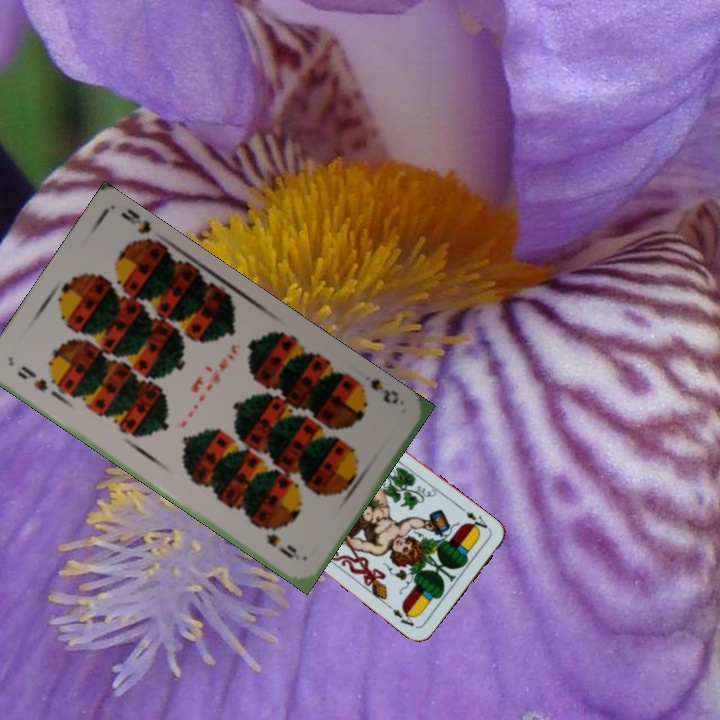EA: (461, 507, 493, 536)
S9: (13, 361, 63, 400), (350, 375, 402, 407)
